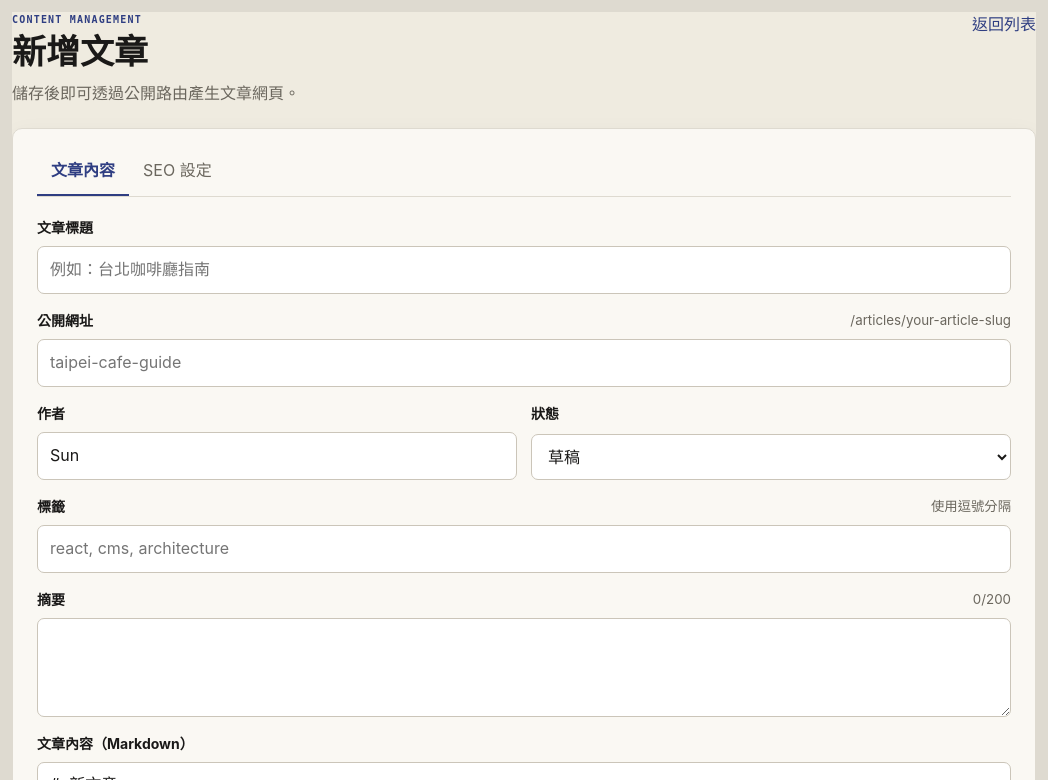
Scenario: ArticleEditorPage — SEO panel and live preview › switches to the SEO panel and falls back preview text to title/excerpt
Type "我的標題" into the field with placeholder "例如：台北咖啡廳指南".
click(524, 270); type("我的標題")  # box [37,246,1011,294]
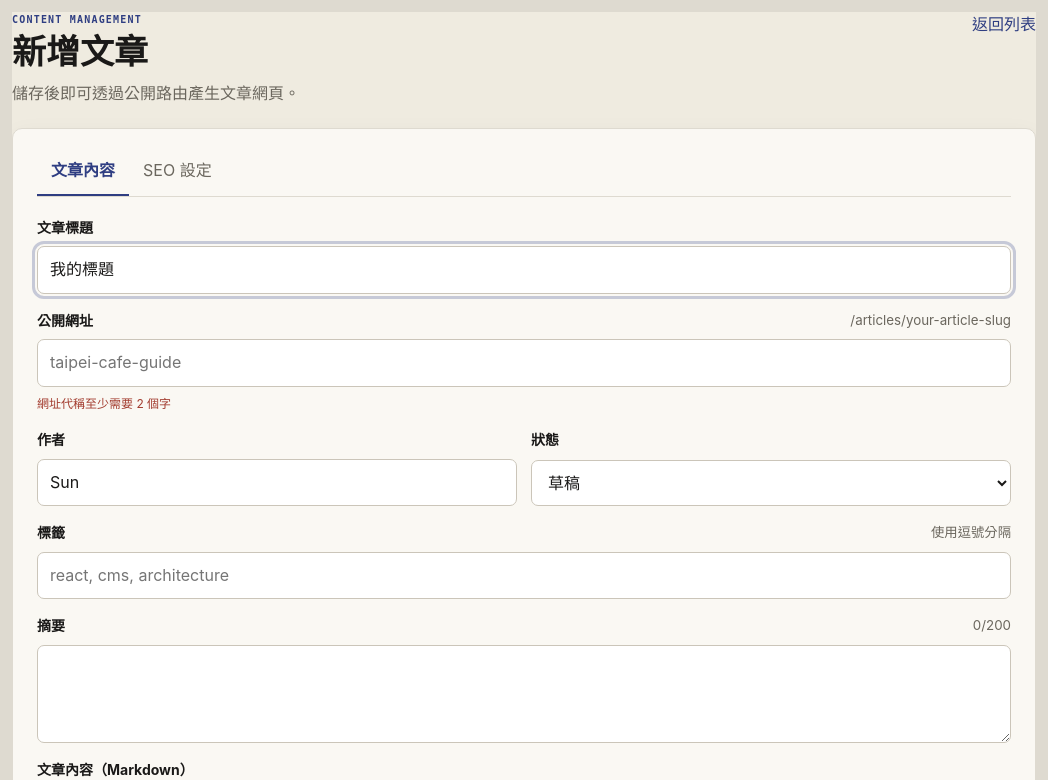
Click the button "SEO 設定".
click(177, 172)  # box [129,148,226,196]
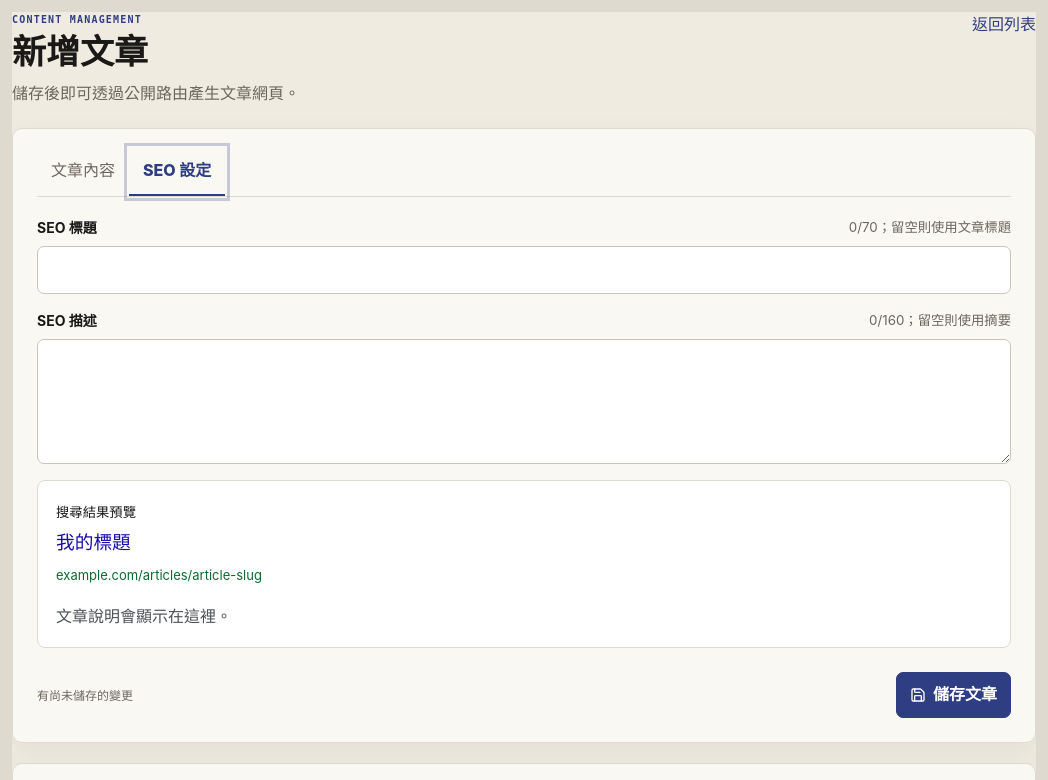
Expected: the heading "我的標題" is shown, [56,531,131,554]
